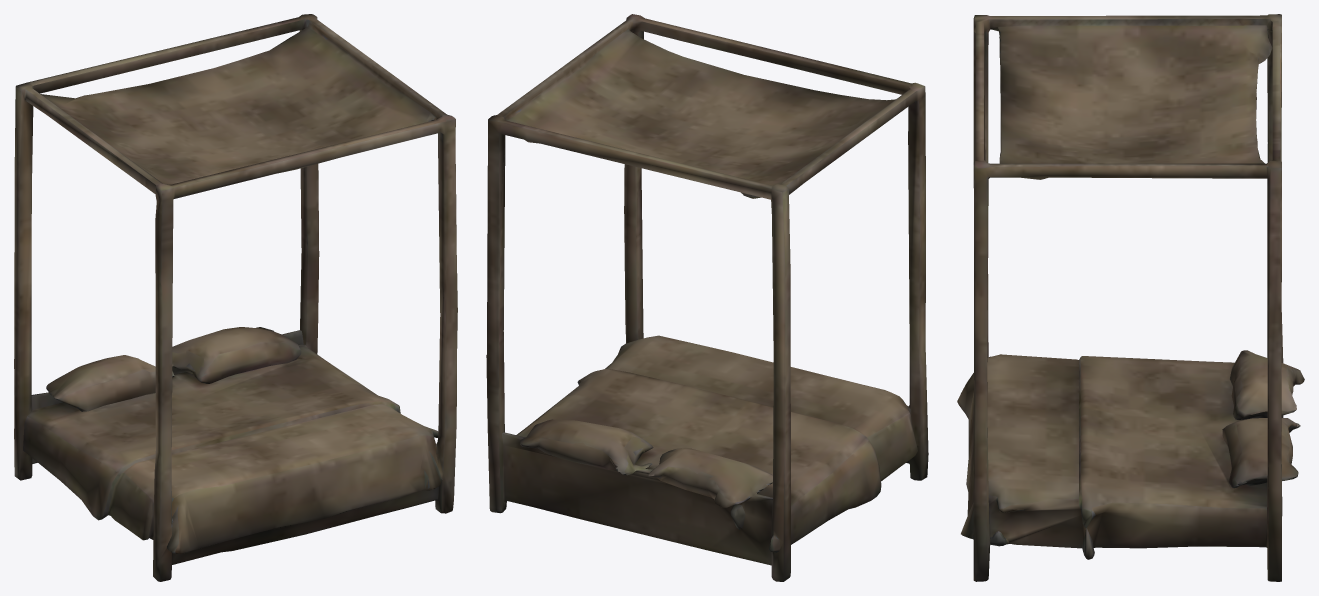
File: ancient-wood-four-poster-bed-v001.glb
3 renders of one model, left to right at view 1: azimuth 30°, elevation 25°; view 2: azimuth 150°, elevation 25°; view 3: azimuth 270°, elevation 25°, orthographic. The views are drawn at different scales.
Parts seen in each view (by area): view 1: ancient-wood-four-poster-bed; view 2: ancient-wood-four-poster-bed; view 3: ancient-wood-four-poster-bed.
Part boxes in pixels (x1=…): ancient-wood-four-poster-bed: x1=14, y1=14, x2=457, y2=581; ancient-wood-four-poster-bed: x1=486, y1=14, x2=928, y2=581; ancient-wood-four-poster-bed: x1=957, y1=14, x2=1304, y2=581.
Size of the model in its own units: 1.66 by 2.05 by 1.54.
1 material, 1 textured.
